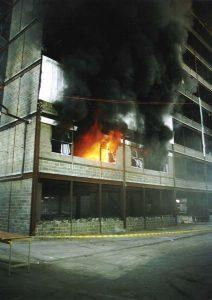fire: (86, 126, 123, 160)
smoke: (69, 19, 173, 121)
